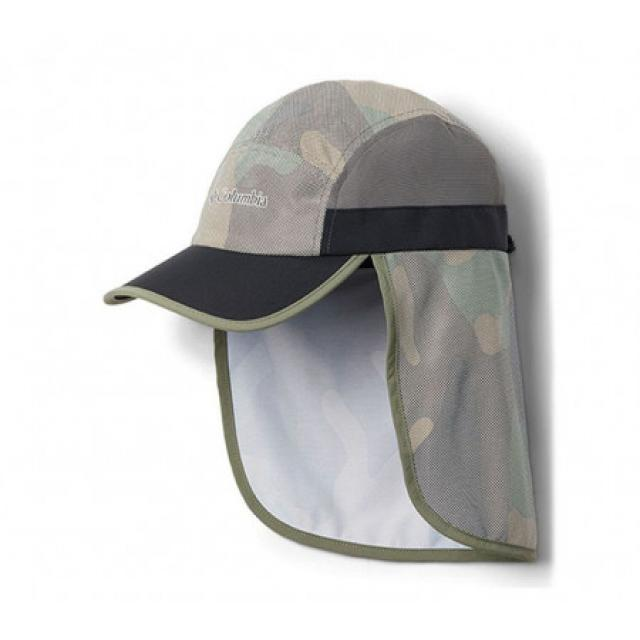Cap: (100, 61, 591, 575)
